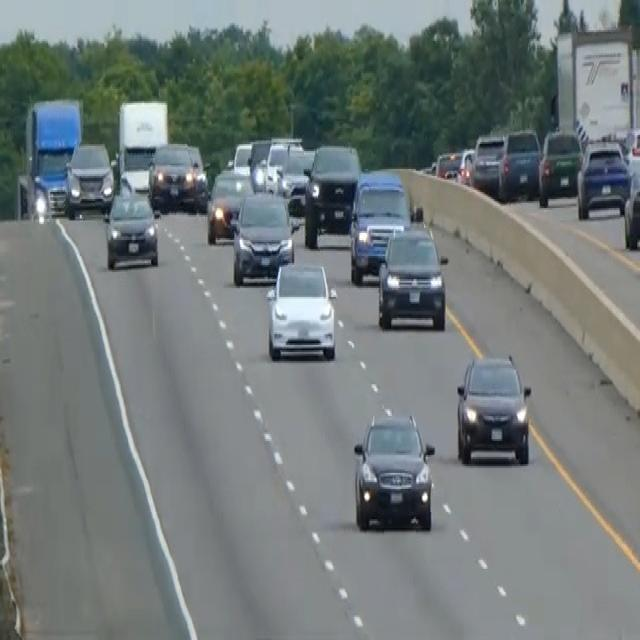car: (454, 350, 532, 466), (376, 224, 447, 331), (265, 258, 337, 361), (348, 169, 412, 284), (230, 188, 295, 284), (303, 141, 360, 247), (471, 126, 541, 201), (102, 188, 159, 270), (575, 137, 631, 219), (64, 138, 114, 218), (205, 164, 252, 244), (537, 126, 582, 206), (148, 140, 197, 212), (277, 148, 314, 212), (470, 130, 505, 192), (264, 135, 302, 192), (185, 142, 208, 208), (623, 162, 639, 249), (247, 137, 271, 190), (231, 138, 253, 172)
jeep: (350, 406, 436, 534)
lorry: (20, 94, 83, 219), (114, 96, 169, 196)
